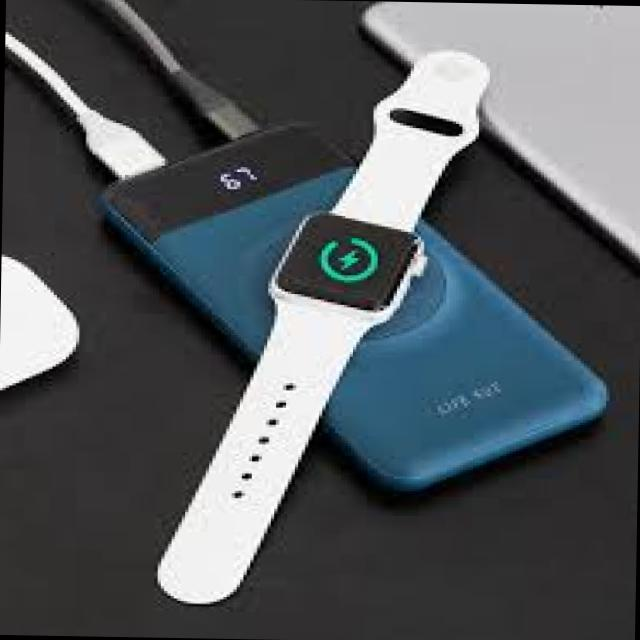portable-charger: (88, 117, 618, 498)
